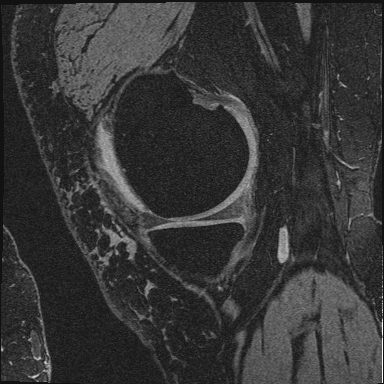effusion: (98, 133, 117, 179)
